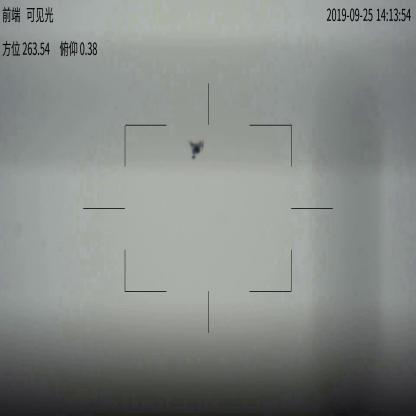uav: (188, 139, 206, 164)
